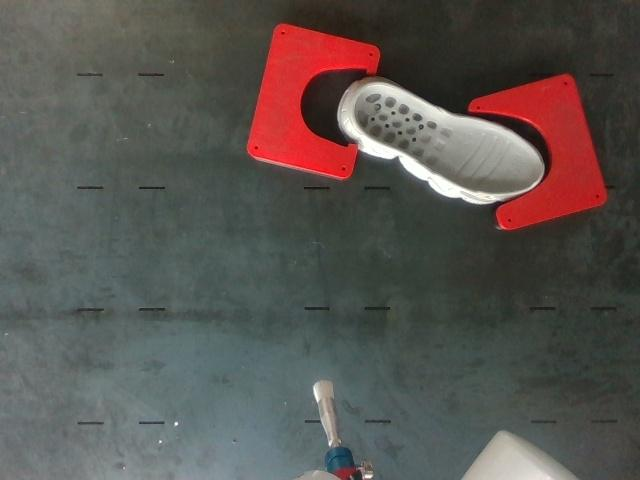shoes: (354, 85, 543, 194)
